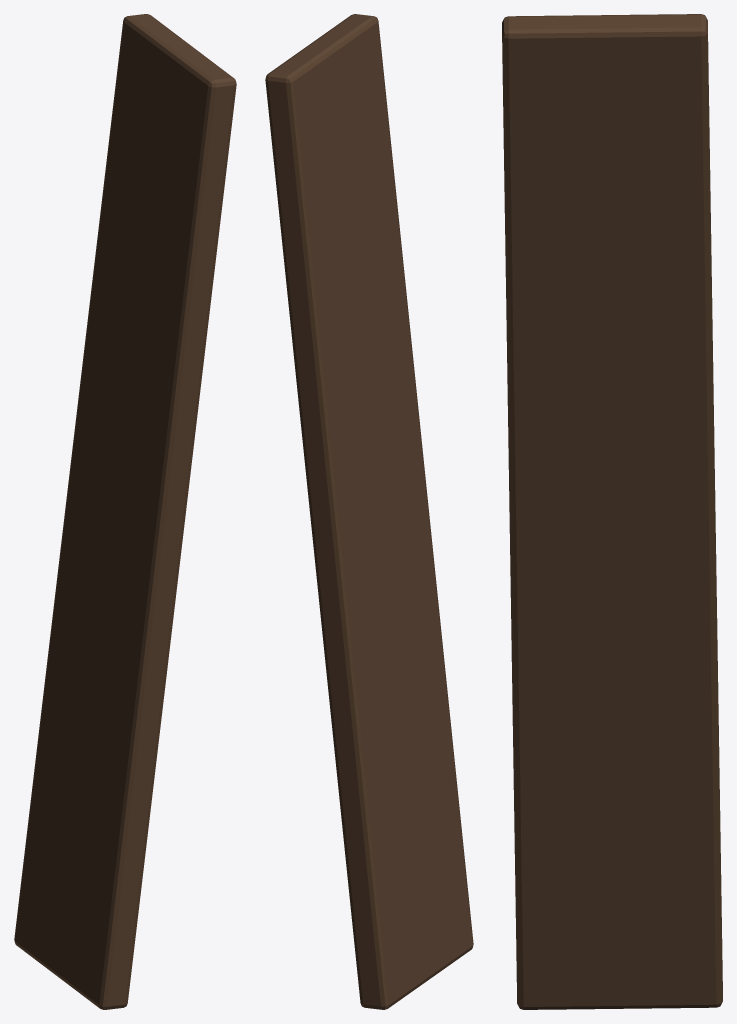
The model's file is justWoodpan.fbx.
The picture shows the model from 3 angles, left to right: view 1: azimuth 30°, elevation 25°; view 2: azimuth 150°, elevation 25°; view 3: azimuth 270°, elevation 25°; orthographic projection. The views are drawn at different scales.
Parts seen in each view (by area): view 1: JIFNamupanja; view 2: JIFNamupanja; view 3: JIFNamupanja.
Boxes of the visible parts, box(x1,y1,x2,y2) form: JIFNamupanja: box(14, 14, 236, 1009); JIFNamupanja: box(265, 14, 473, 1009); JIFNamupanja: box(502, 14, 722, 1009).
Size of the model in its own units: 0.2684 by 0.2086 by 1.4.
